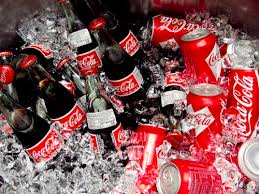can: (173, 25, 223, 89), (157, 161, 237, 193), (183, 81, 223, 143), (224, 66, 259, 123)
